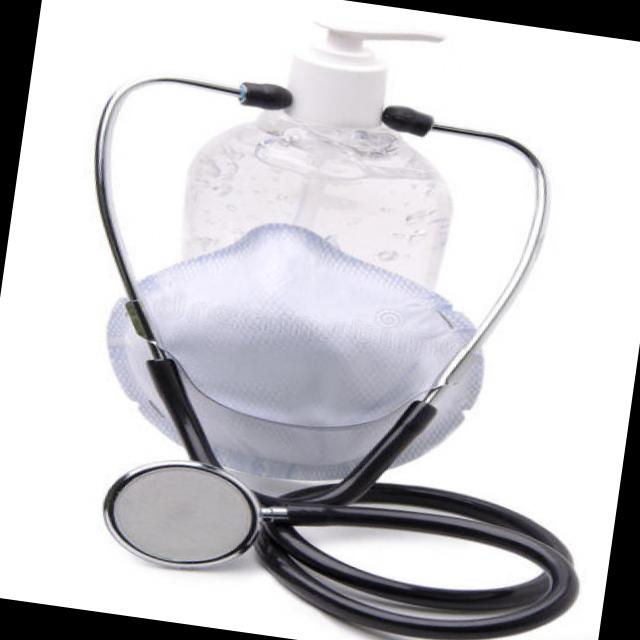sanitizer: (196, 0, 486, 292)
